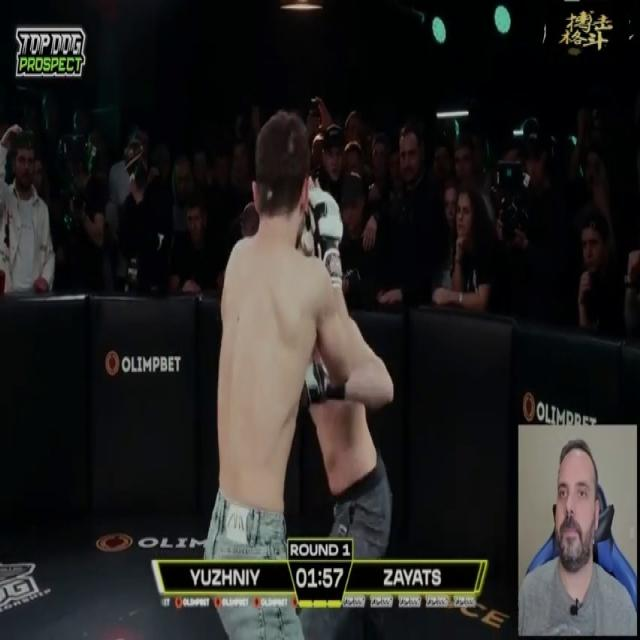fight: (191, 89, 407, 639)
